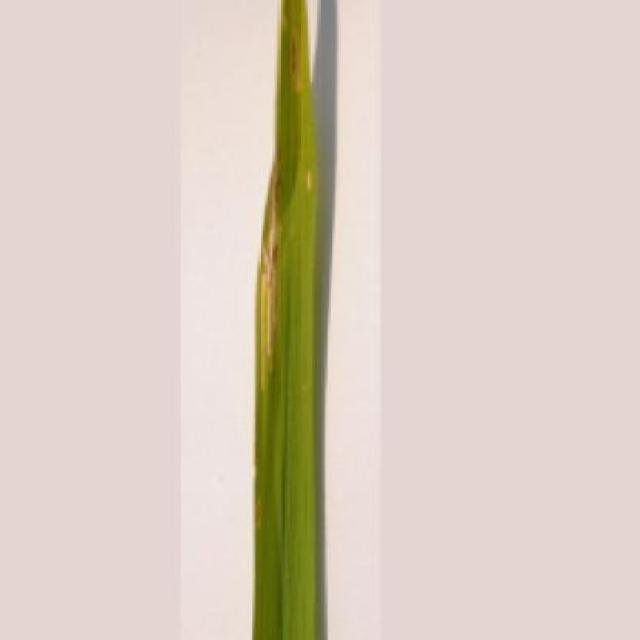Brown_Spot: (248, 0, 322, 640)
